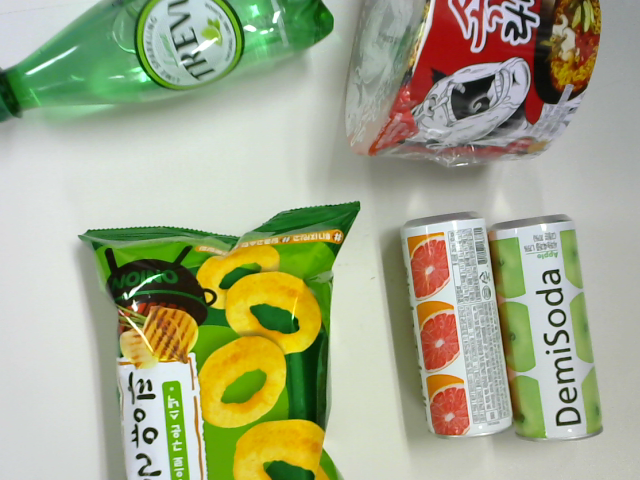Demisoda_Apple_Can_250ml: (486, 200, 605, 447)
Demisoda_Grapefruit_Can_250ml: (392, 209, 513, 448)
Grilled_Onions: (75, 198, 353, 480)
Hejangpul: (334, 1, 613, 176)
Treviraim_500ml: (1, 1, 335, 134)
